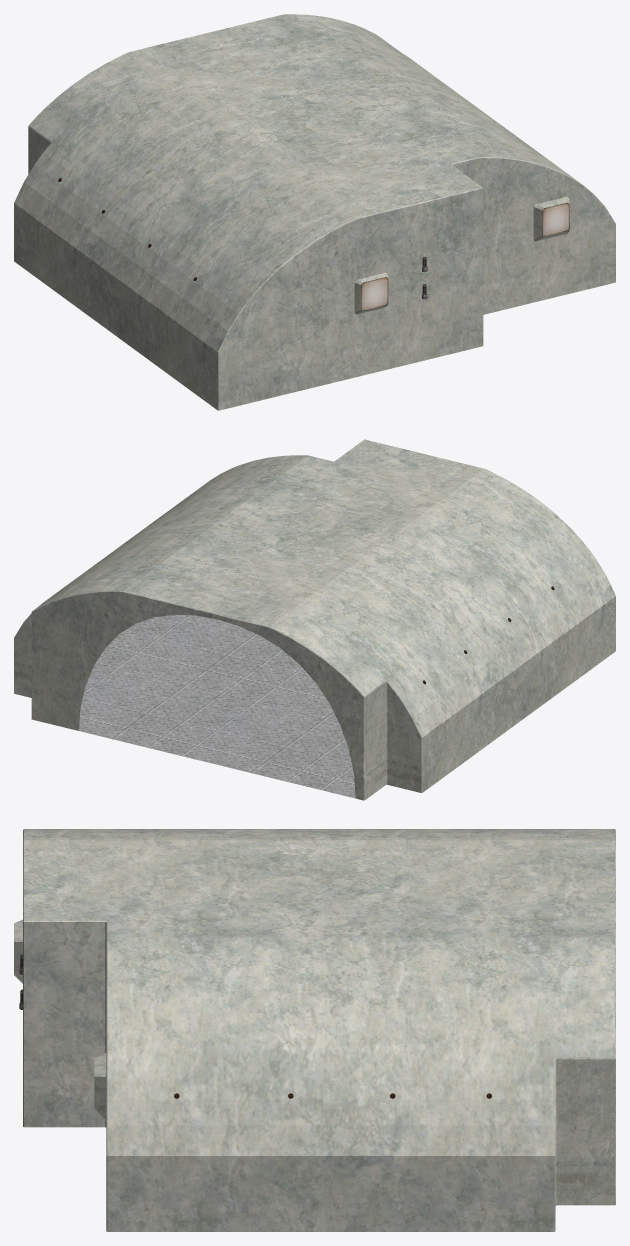
The model's file is thm_corl_cantina_r5_alcove2_mesh_r5.fbx.
The picture shows the model from 3 angles, top to bottom: view 1: azimuth 30°, elevation 25°; view 2: azimuth 150°, elevation 25°; view 3: azimuth 270°, elevation 25°; orthographic projection. The views are drawn at different scales.
Visible parts, largest first — view 1: mesh_node; view 2: mesh_node; view 3: mesh_node.
Part boxes in pixels (x1,y1,x2,y2): mesh_node: (14, 14, 615, 410); mesh_node: (14, 439, 615, 800); mesh_node: (14, 829, 615, 1231).
Size of the model in its own units: 11.79 by 4.15 by 10.98.
